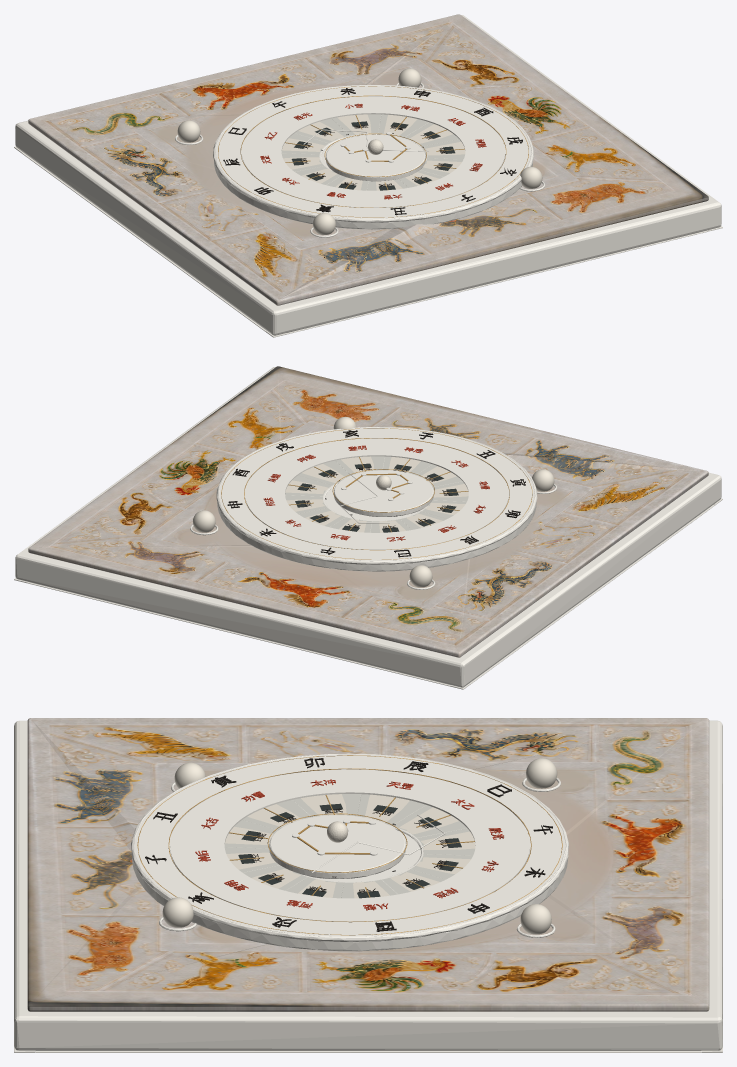
Rendered from daliuren-artifact-mobile.glb.
The picture shows the model from 3 angles, top to bottom: view 1: azimuth 30°, elevation 25°; view 2: azimuth 150°, elevation 25°; view 3: azimuth 270°, elevation 25°; orthographic projection. The views are drawn at different scales.
Parts seen in each view (by area): view 1: lod2/plate/earth, lod2/base/body, lod2/detail/heaven/linked-ring-2, lod2/detail/heaven/linked-ring-1, lod2/plate/core, lod2/plate/heaven, lod2/detail/heaven/bronze-rim, lod2/detail/base/shell-return/01, lod2/detail/base/shell-return/03, lod2/detail/ring/groove-01, lod2/detail/ring/groove-00; view 2: lod2/plate/earth, lod2/base/body, lod2/detail/heaven/linked-ring-2, lod2/detail/heaven/linked-ring-1, lod2/plate/core, lod2/plate/heaven, lod2/detail/heaven/bronze-rim, lod2/detail/base/shell-return/00, lod2/detail/base/shell-return/03, lod2/detail/ring/groove-00, lod2/detail/ring/groove-01, lod2/detail/heaven/dial-foundation; view 3: lod2/plate/earth, lod2/base/body, lod2/detail/heaven/linked-ring-2, lod2/detail/heaven/linked-ring-1, lod2/plate/core, lod2/plate/heaven, lod2/detail/heaven/bronze-rim, lod2/detail/base/shell-return/02, lod2/detail/ring/groove-00, lod2/detail/ring/groove-01, lod2/detail/heaven/dial-foundation, lod2/detail/earth/corner-pearl-00 (+11 smaller).
Part boxes in pixels (x1,y1,x2,y2): lod2/plate/earth: (28,14,708,305); lod2/base/body: (15,15,721,335); lod2/detail/heaven/linked-ring-2: (241,96,505,207); lod2/detail/heaven/linked-ring-1: (214,85,532,218); lod2/plate/core: (326,134,425,181); lod2/plate/heaven: (214,135,532,229); lod2/detail/heaven/bronze-rim: (213,85,533,222); lod2/detail/base/shell-return/01: (287,230,708,334); lod2/detail/base/shell-return/03: (22,152,266,331); lod2/detail/ring/groove-01: (240,95,506,207); lod2/detail/ring/groove-00: (218,86,528,217); lod2/plate/earth: (28,366,708,657); lod2/base/body: (15,367,721,687); lod2/detail/heaven/linked-ring-2: (245,438,508,549); lod2/detail/heaven/linked-ring-1: (218,427,535,561); lod2/plate/core: (334,470,433,516); lod2/plate/heaven: (217,475,536,571); lod2/detail/heaven/bronze-rim: (216,427,537,564); lod2/detail/base/shell-return/00: (28,582,449,686); lod2/detail/base/shell-return/03: (470,504,714,683); lod2/detail/ring/groove-00: (221,428,532,559); lod2/detail/ring/groove-01: (244,438,509,550); lod2/detail/heaven/dial-foundation: (292,486,422,567); lod2/plate/earth: (27,718,709,1011); lod2/base/body: (14,720,722,1050); lod2/detail/heaven/linked-ring-2: (170,769,529,921); lod2/detail/heaven/linked-ring-1: (133,754,566,936); lod2/plate/core: (269,815,405,878); lod2/plate/heaven: (132,818,568,951); lod2/detail/heaven/bronze-rim: (131,754,568,941); lod2/detail/base/shell-return/02: (36,1051,700,1052); lod2/detail/ring/groove-00: (137,755,562,935); lod2/detail/ring/groove-01: (168,768,531,922); lod2/detail/heaven/dial-foundation: (295,830,433,950); lod2/detail/earth/corner-pearl-00: (526,758,557,788).
Bounding box in the file's own units: 0.52 × 0.0632 × 0.52.
12 materials, 1 textured.
